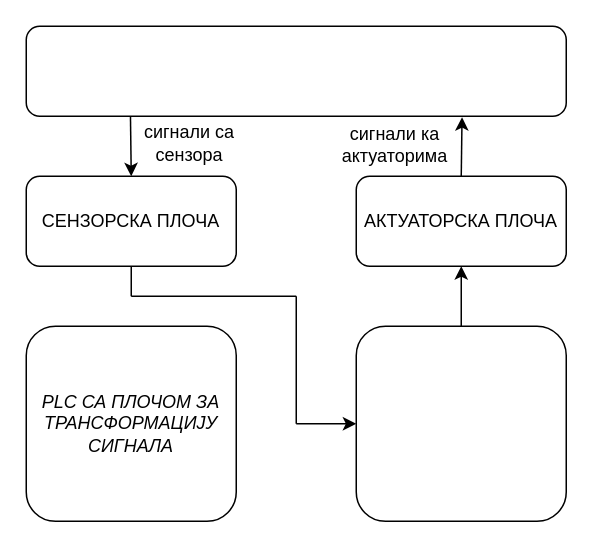
This 593x548 diagram has some shape labels left out. The shapes that lost their labels are listed below. From the top down, each one's centre as x and y in pixels, then its label:
point (295, 70): ПРОЦЕСНИ ДЕО
point (460, 423): uC СА ПРИЛАГОДНОМ ПЛОЧОМ
